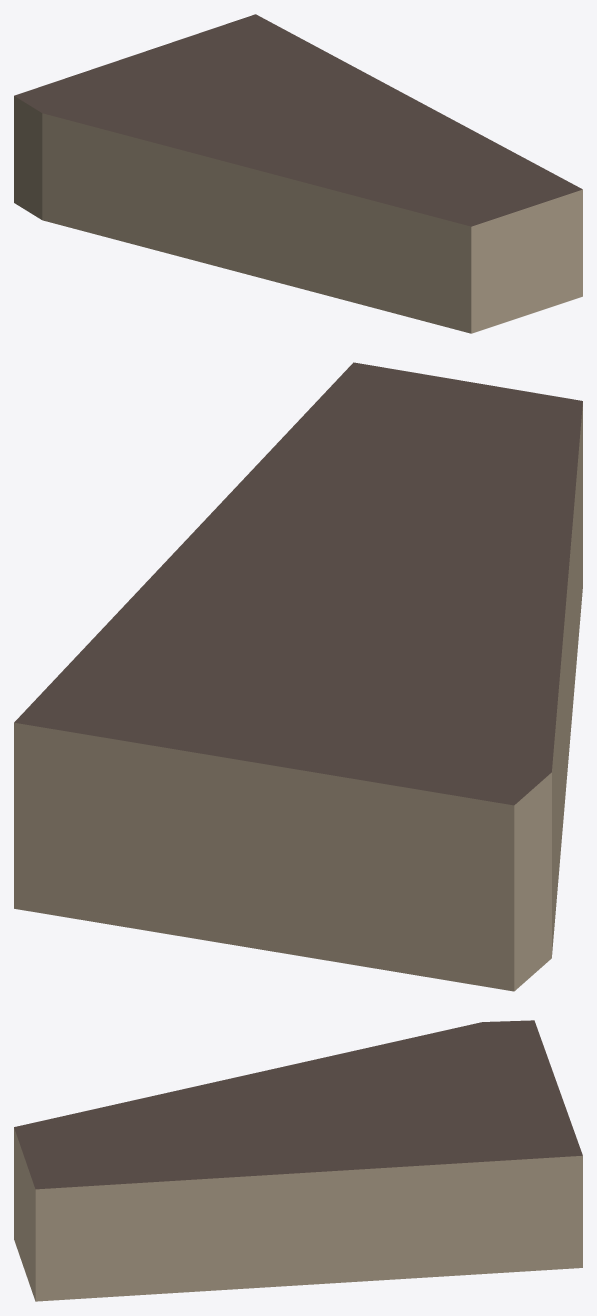
3 renders of one model, top to bottom at view 1: azimuth 30°, elevation 25°; view 2: azimuth 150°, elevation 25°; view 3: azimuth 270°, elevation 25°, orthographic. The views are drawn at different scales.
Parts seen in each view (by area): view 1: HP-w299011342; view 2: HP-w299011342; view 3: HP-w299011342.
Boxes of the visible parts, x1,y1,x2,y2 form: HP-w299011342: (14,14,582,333); HP-w299011342: (14,362,582,991); HP-w299011342: (14,1020,582,1301).
Size of the model in its own units: 29.08 by 9 by 41.37.
